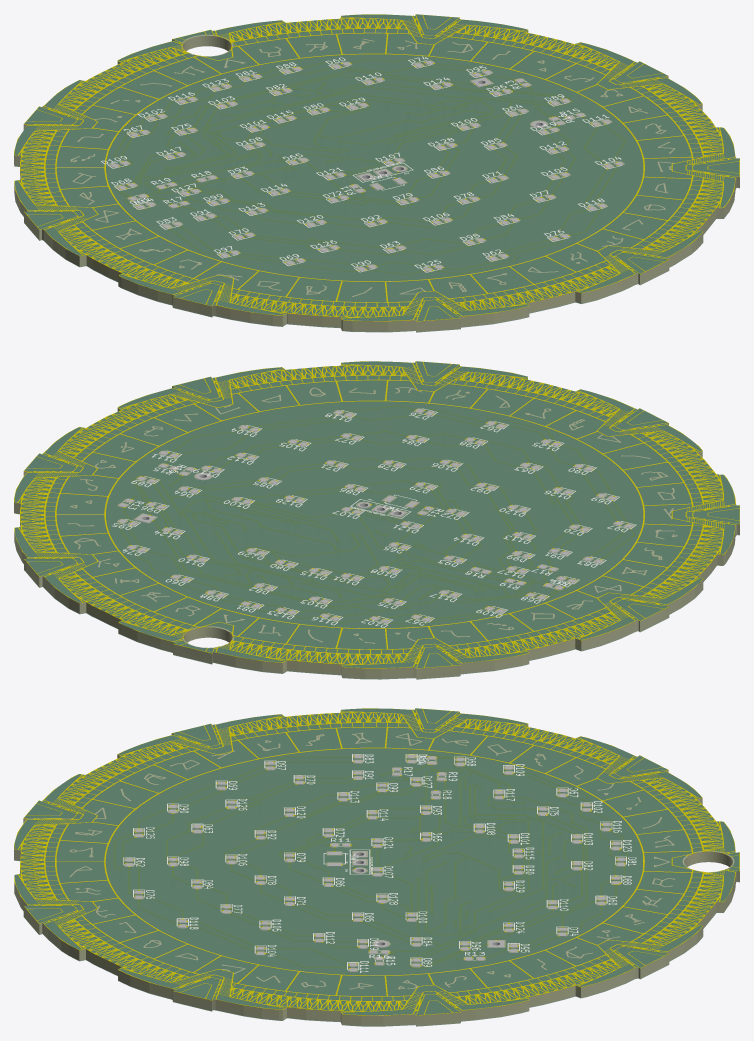
File: stargate-badge-dc27.glb
3 renders of one model, top to bottom at view 1: azimuth 30°, elevation 25°; view 2: azimuth 150°, elevation 25°; view 3: azimuth 270°, elevation 25°, orthographic.
Visible parts, largest first — view 1: =>[0:1:1:7], =>[0:1:1:9], =>[0:1:1:2], =>[0:1:1:5]; view 2: =>[0:1:1:7], =>[0:1:1:9], =>[0:1:1:2], =>[0:1:1:5]; view 3: =>[0:1:1:7], =>[0:1:1:9], =>[0:1:1:2], =>[0:1:1:5].
Part boxes in pixels (<box>): =>[0:1:1:7]: <box>14,14,739,332</box>; =>[0:1:1:9]: <box>14,15,739,332</box>; =>[0:1:1:2]: <box>14,14,739,321</box>; =>[0:1:1:5]: <box>16,46,738,332</box>; =>[0:1:1:7]: <box>14,361,739,679</box>; =>[0:1:1:9]: <box>14,362,739,679</box>; =>[0:1:1:2]: <box>14,361,739,668</box>; =>[0:1:1:5]: <box>15,408,739,679</box>; =>[0:1:1:7]: <box>14,708,739,1026</box>; =>[0:1:1:9]: <box>14,709,739,1026</box>; =>[0:1:1:2]: <box>14,708,739,1015</box>; =>[0:1:1:5]: <box>15,754,737,1026</box>.
Size of the model in its own units: 0.0949 by 0.00166 by 0.0947.
Materials: 4 (4 with a texture image).
